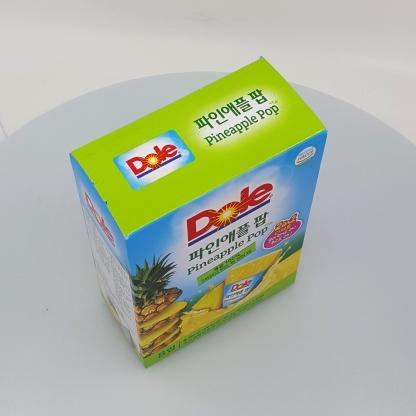---------496ML: (69, 56, 328, 368)
